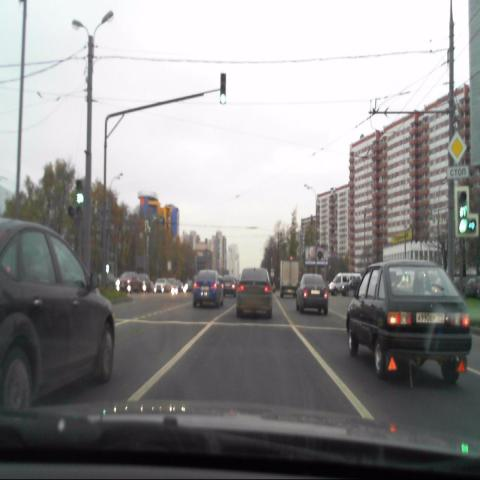2_1: (447, 130, 467, 163)
